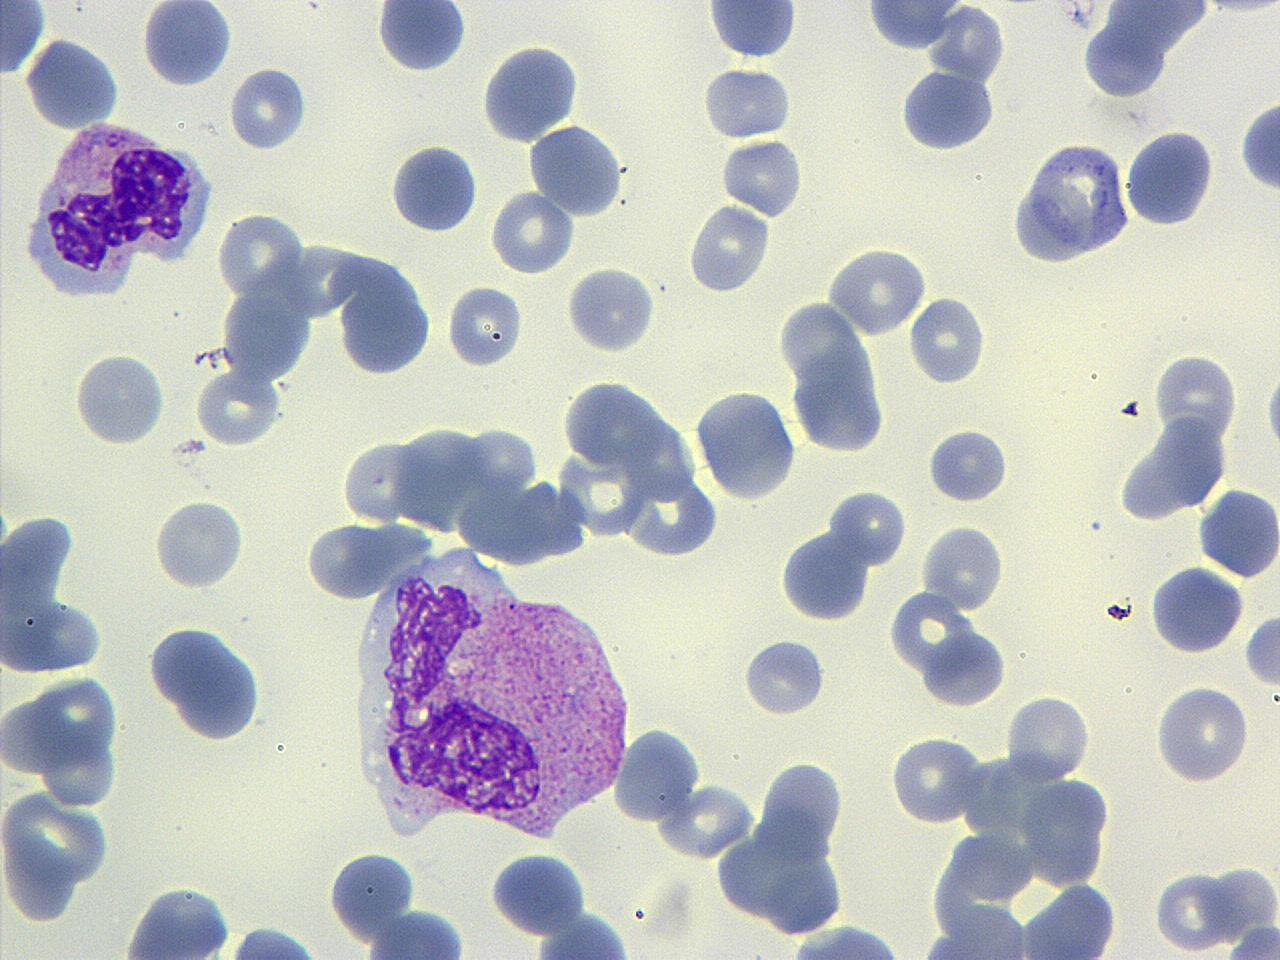Platelets: (906, 292, 992, 387), (719, 137, 807, 219), (927, 425, 1011, 506), (1263, 369, 1280, 456), (1066, 2, 1092, 33)
RBC: (0, 786, 112, 923), (334, 250, 438, 381), (478, 30, 585, 150), (1152, 679, 1250, 786), (217, 285, 315, 387), (824, 241, 928, 338), (150, 494, 250, 592), (609, 724, 703, 826), (23, 34, 123, 130), (563, 261, 660, 356), (1148, 564, 1246, 656), (886, 730, 978, 828), (216, 207, 308, 301), (1152, 347, 1240, 446), (918, 520, 1010, 611), (302, 520, 403, 602), (684, 201, 772, 294), (1004, 689, 1090, 785), (1196, 482, 1280, 580), (228, 62, 310, 153), (738, 636, 830, 718), (906, 294, 988, 387), (488, 190, 574, 275), (925, 423, 1012, 506), (193, 368, 283, 448), (720, 135, 804, 220), (444, 281, 526, 369), (1153, 866, 1233, 956), (828, 483, 910, 570), (340, 436, 414, 525), (355, 906, 476, 958), (0, 0, 48, 80), (1242, 604, 1280, 698), (1195, 0, 1280, 20)
WBC: (286, 0, 926, 476), (343, 545, 644, 850), (905, 740, 1128, 960), (9, 111, 219, 306), (550, 366, 724, 561), (708, 750, 860, 944), (868, 0, 1014, 160), (1, 492, 114, 681), (1, 668, 132, 812), (1008, 134, 1135, 268), (888, 584, 1018, 708), (144, 619, 270, 744), (2, 788, 114, 924), (1071, 0, 1213, 103), (332, 248, 440, 380), (1115, 410, 1233, 526), (319, 878, 486, 960), (694, 384, 800, 504), (788, 336, 894, 452), (479, 38, 581, 146), (486, 844, 596, 944), (19, 31, 126, 132), (219, 279, 319, 385), (1120, 122, 1218, 230), (69, 348, 171, 449), (894, 61, 1002, 156), (528, 120, 628, 219), (300, 518, 415, 604), (774, 527, 874, 625), (150, 494, 250, 592), (1148, 563, 1248, 658), (117, 881, 240, 959), (610, 724, 703, 826), (387, 137, 481, 236), (566, 261, 661, 357), (324, 846, 417, 942), (140, 0, 238, 89), (684, 201, 775, 295), (1197, 482, 1279, 581), (740, 636, 831, 720), (228, 64, 312, 152), (700, 65, 797, 142), (372, 1, 472, 74), (926, 422, 1010, 506), (526, 910, 648, 960), (357, 908, 478, 958), (774, 920, 926, 958), (705, 2, 800, 61), (202, 924, 341, 960), (1236, 94, 1280, 198)
